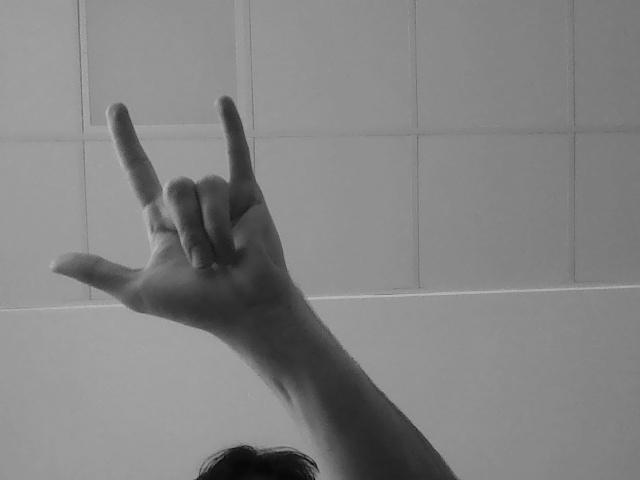I_Love_You: (53, 98, 301, 359)
